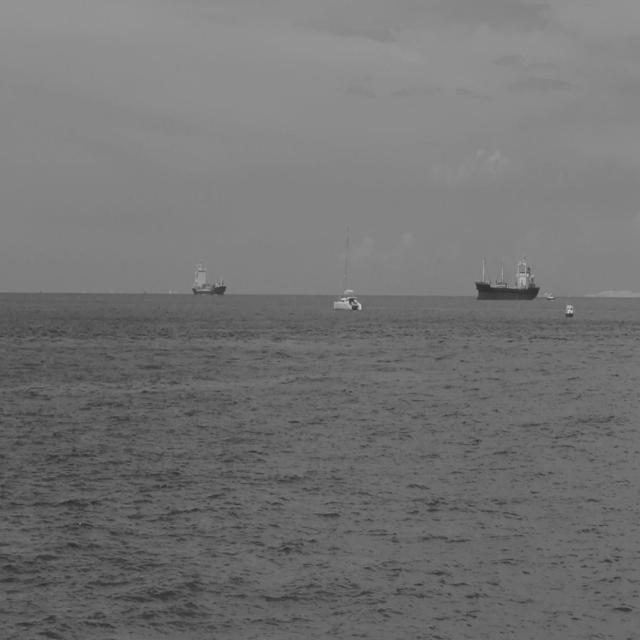boat: (332, 221, 363, 312)
ship: (472, 250, 541, 302), (190, 260, 228, 298), (563, 300, 575, 319), (546, 291, 555, 301)
